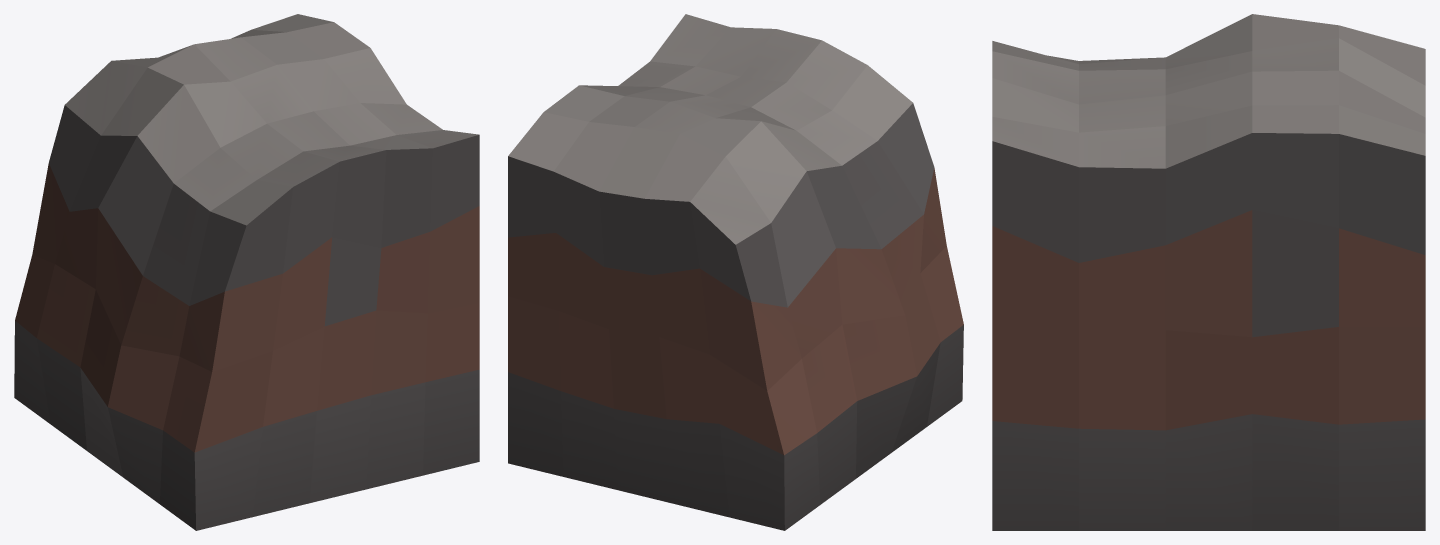
The model's file is roca_te_3.glb.
The picture shows the model from 3 angles, left to right: view 1: azimuth 30°, elevation 25°; view 2: azimuth 150°, elevation 25°; view 3: azimuth 270°, elevation 25°; orthographic projection. The views are drawn at different scales.
Parts seen in each view (by area): view 1: propforge-cuartos-roca_te; view 2: propforge-cuartos-roca_te; view 3: propforge-cuartos-roca_te.
Boxes of the visible parts, x1,y1,x2,y2 form: propforge-cuartos-roca_te: [14, 14, 479, 530]; propforge-cuartos-roca_te: [508, 14, 963, 530]; propforge-cuartos-roca_te: [992, 14, 1425, 530].
Size of the model in its own units: 0.9667 by 1.05 by 1.
